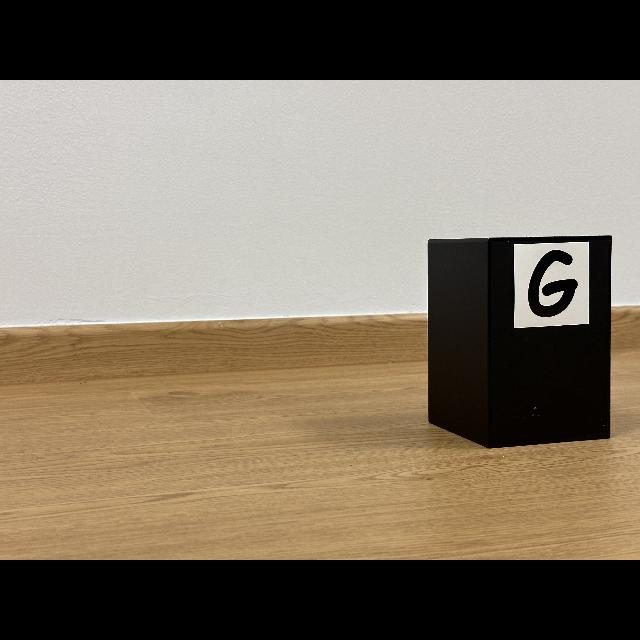G: (528, 250, 578, 318)
